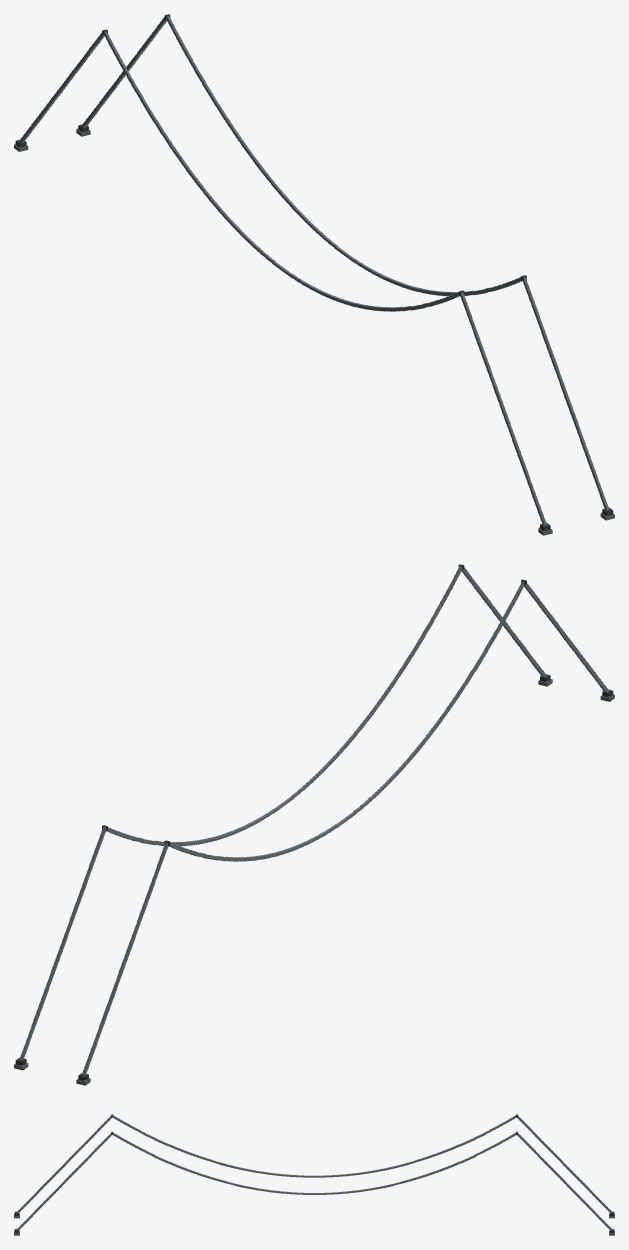
3 views of the same model, one above another, from view 1: azimuth 30°, elevation 25°; view 2: azimuth 150°, elevation 25°; view 3: azimuth 270°, elevation 25° (orthographic). The views are drawn at different scales.
Parts seen in each view (by area): view 1: 既有长桥主悬索; view 2: 既有长桥主悬索; view 3: 既有长桥主悬索.
Boxes of the visible parts, x1=… form: 既有长桥主悬索: x1=14, y1=14, x2=614, y2=535; 既有长桥主悬索: x1=14, y1=564, x2=614, y2=1085; 既有长桥主悬索: x1=14, y1=1114, x2=614, y2=1235.
Size of the model in its own units: 12.6 by 30.3 by 162.
4 materials, 4 textured.
